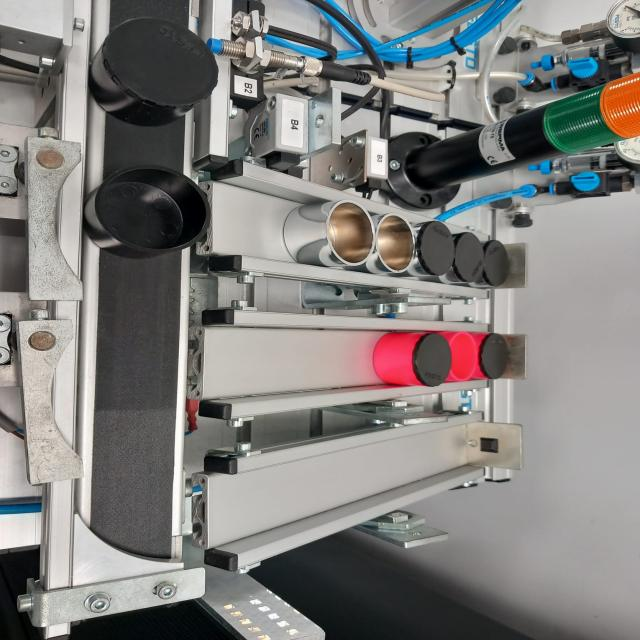NoLid: (74, 160, 217, 272), (285, 198, 372, 267), (374, 208, 417, 279), (448, 333, 478, 382)
Workpiece: (84, 24, 231, 129), (373, 332, 449, 387), (417, 218, 455, 282), (474, 329, 514, 382), (454, 228, 486, 286), (486, 234, 515, 287)
